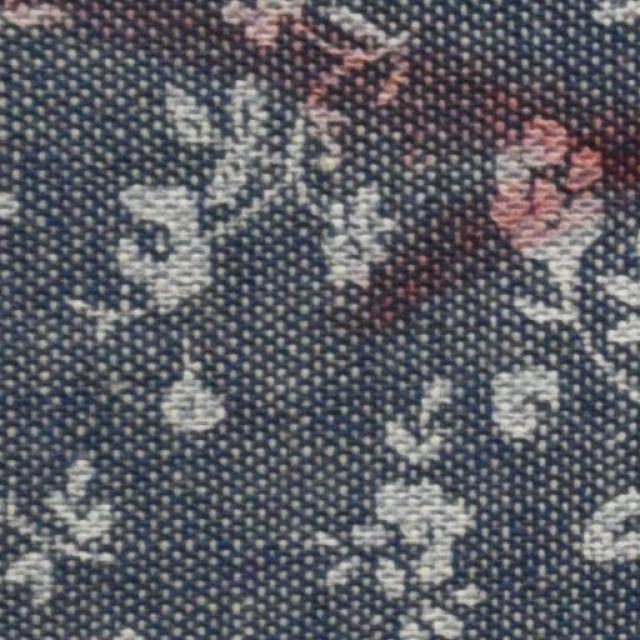Stain: (89, 1, 639, 329)
